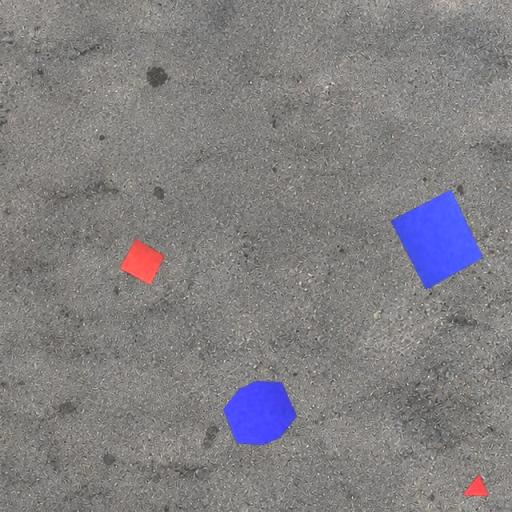BLUE_SQUARE: (390, 190, 483, 290)
RED_SQUARE: (118, 238, 166, 286)
